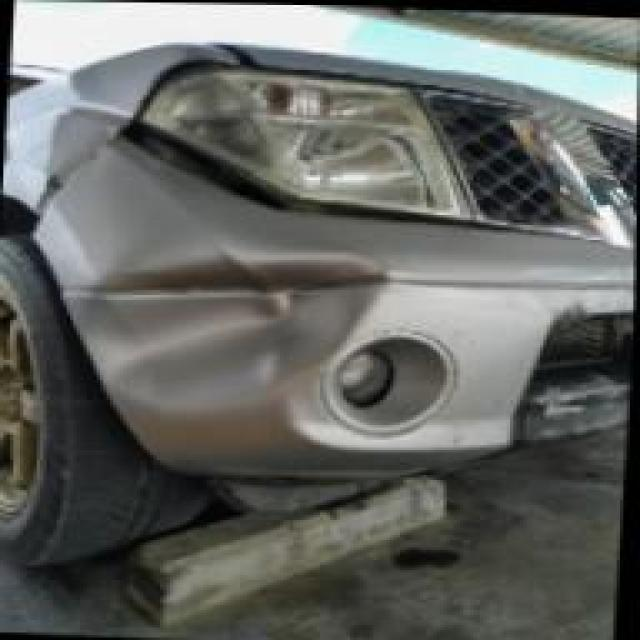Bumper: (30, 128, 623, 471)
